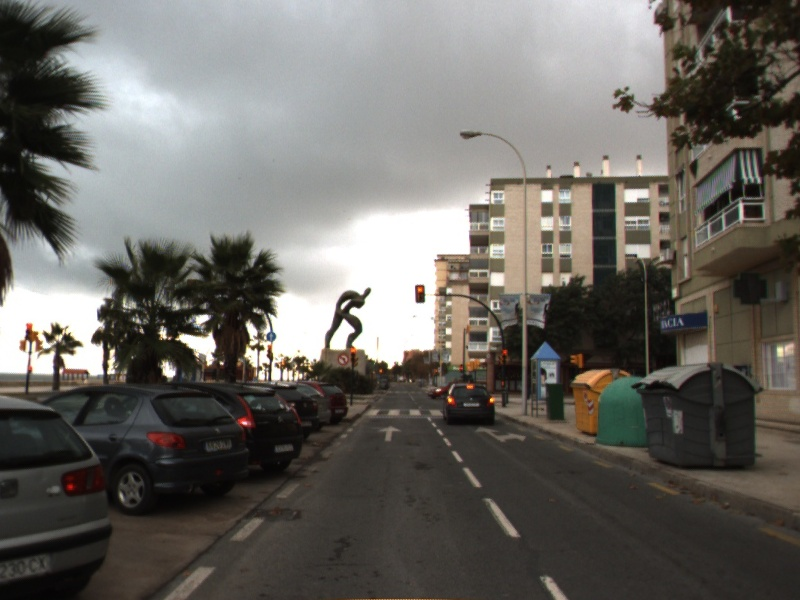STRAIGHT: (377, 424, 404, 443)
STRAIGHT_RIGHT: (473, 424, 529, 444)
